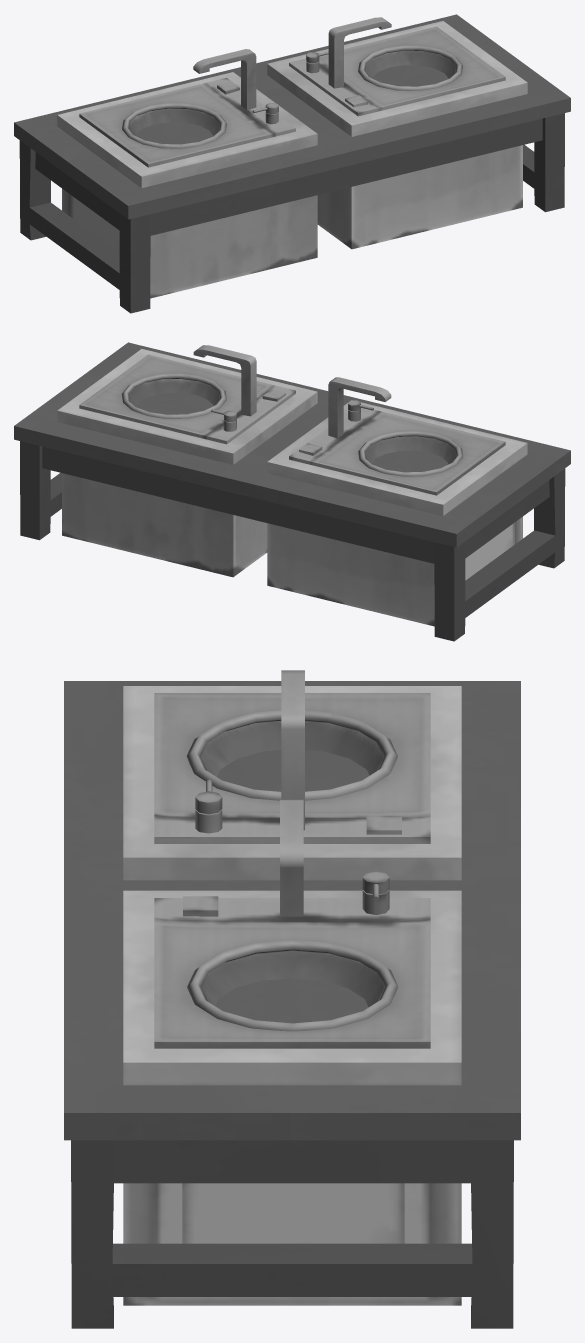
The model's file is Pfb_Table_02_6_JLAB_Temp.fbx.
3 views of the same model, one above another, from view 1: azimuth 30°, elevation 25°; view 2: azimuth 150°, elevation 25°; view 3: azimuth 270°, elevation 25° (orthographic). The views are drawn at different scales.
Parts seen in each view (by area): view 1: Kitchen, Mat_Table_02White; view 2: Kitchen, Mat_Table_02White; view 3: Kitchen, Mat_Table_02White.
Boxes of the visible parts, x1,y1,x2,y2 form: Kitchen: (57, 17, 527, 298); Mat_Table_02White: (14, 14, 570, 313); Kitchen: (57, 345, 527, 626); Mat_Table_02White: (14, 342, 570, 641); Kitchen: (123, 670, 461, 1305); Mat_Table_02White: (64, 681, 520, 1328).
Size of the model in its own units: 2.78 by 1.09 by 1.24.
Materials: 2 (2 with a texture image).
